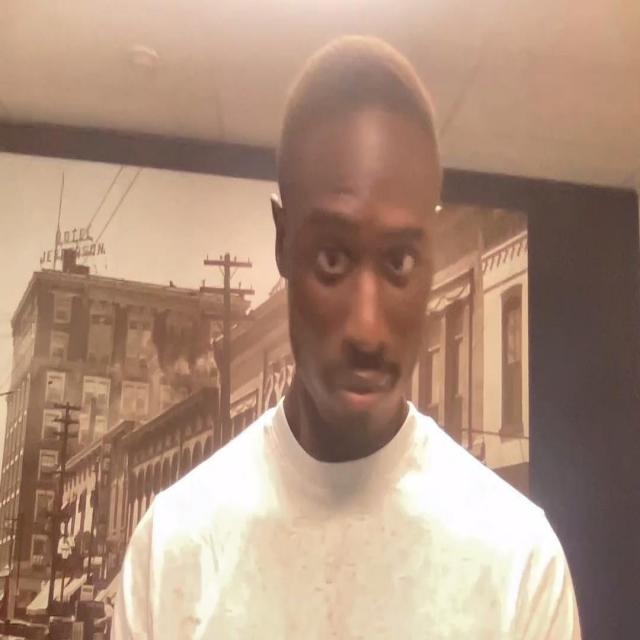face: (270, 119, 445, 435)
